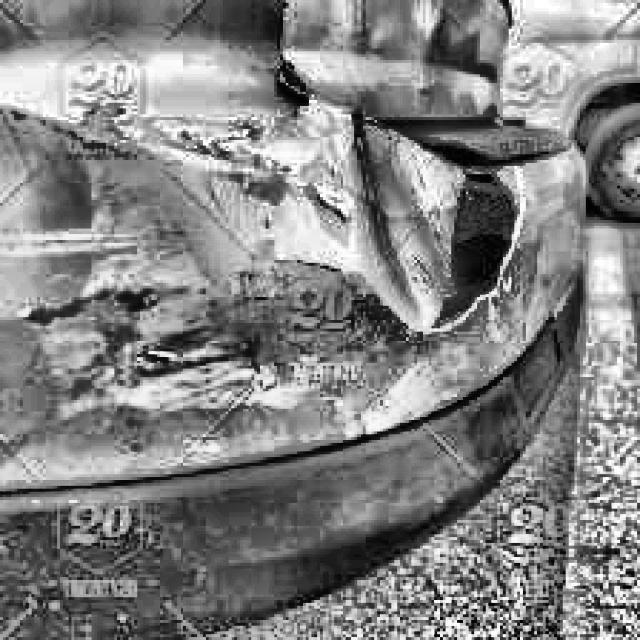bumper_dent: (292, 103, 528, 338)
